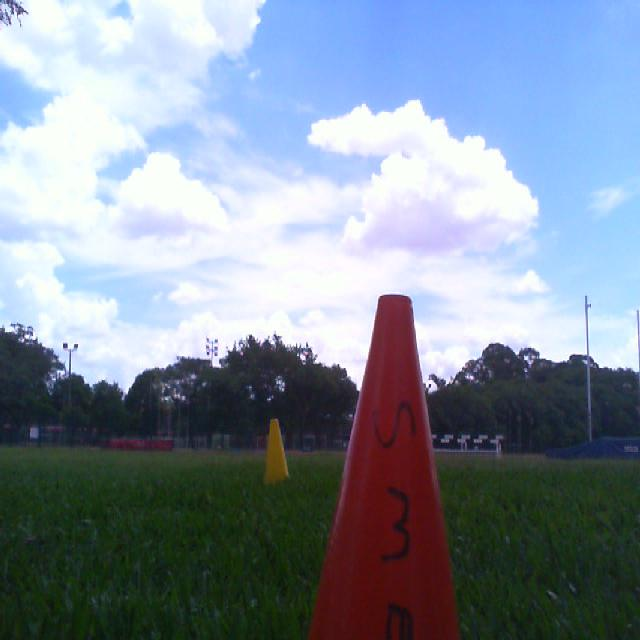cone: (306, 294, 462, 640), (262, 420, 288, 485)
